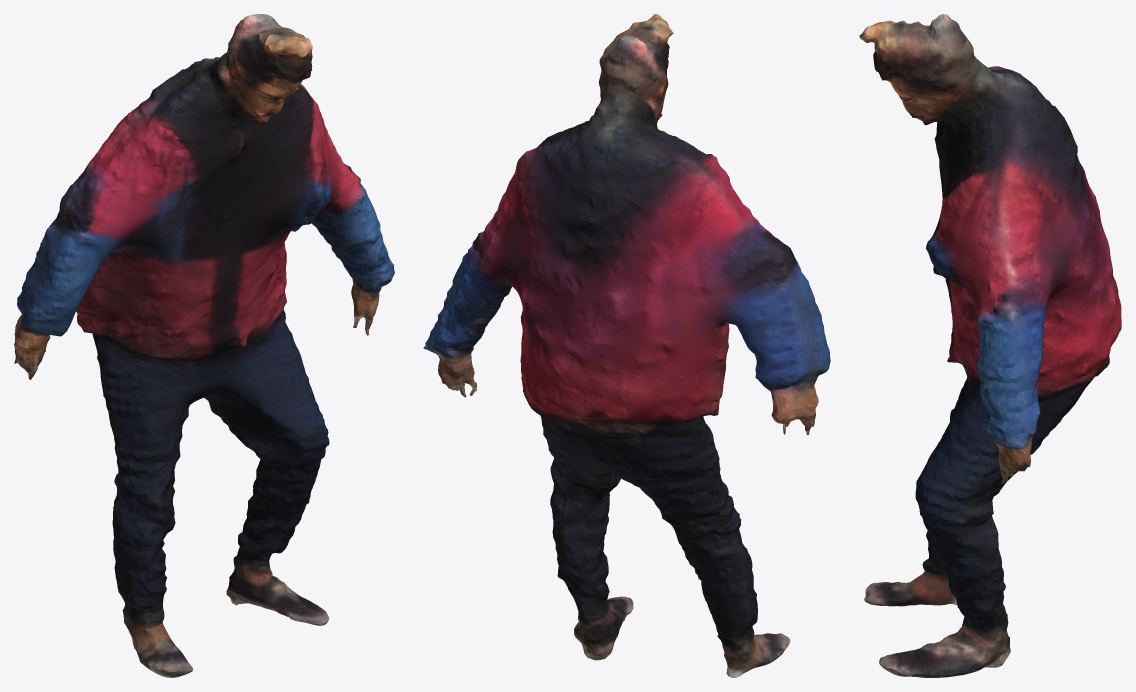
File: 0043_000_0468_00074_03_00061_gau.glb
The picture shows the model from 3 angles, left to right: view 1: azimuth 30°, elevation 25°; view 2: azimuth 150°, elevation 25°; view 3: azimuth 270°, elevation 25°; orthographic projection. The views are drawn at different scales.
Bounding box in the file's own units: 0.8928 × 1.35 × 0.4985.
Materials: 1 (1 with a texture image).
